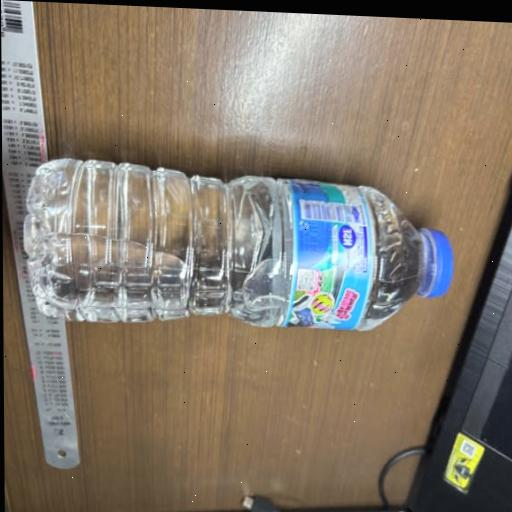ba: (17, 91, 463, 413)
